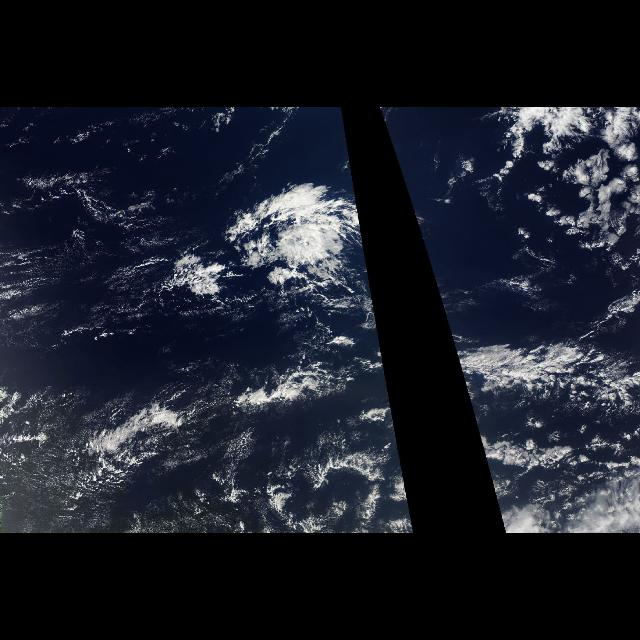Fish: (448, 328, 628, 414)
Flower: (420, 107, 640, 411)
Sugar: (5, 175, 158, 357), (3, 388, 125, 530)
